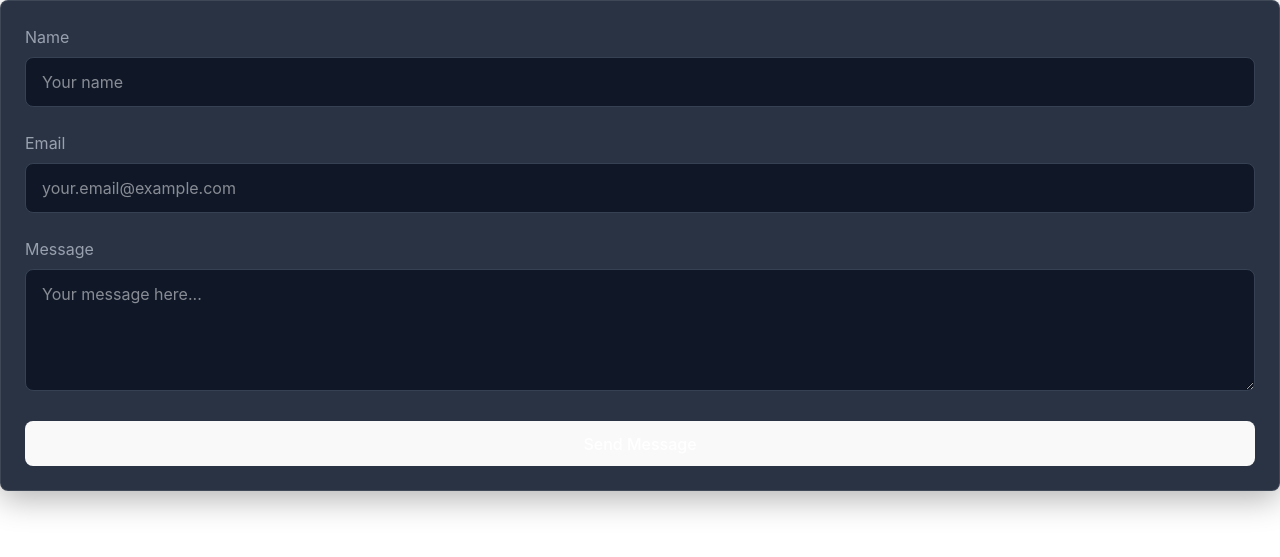
Test case: ContactForm › Field Validation › should show error for invalid email format
Type "invalid-email" into the field with placeholder "your.email@example.com" at [640, 188], box [25,163,1255,213]
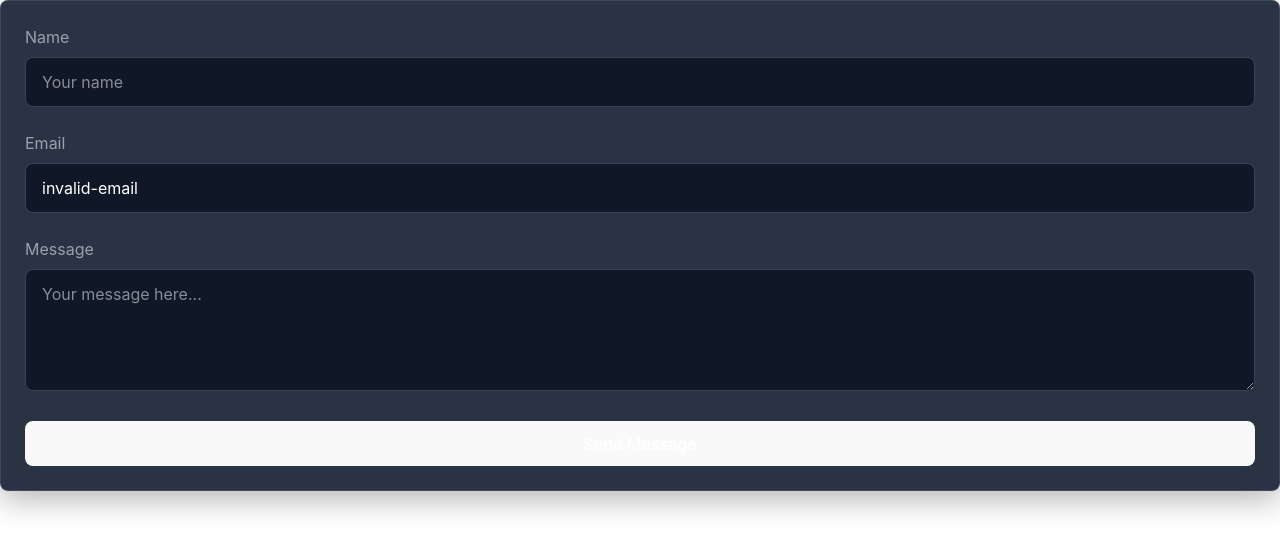
Leave the field with placeholder "your.email@example.com", box [25,163,1255,213]
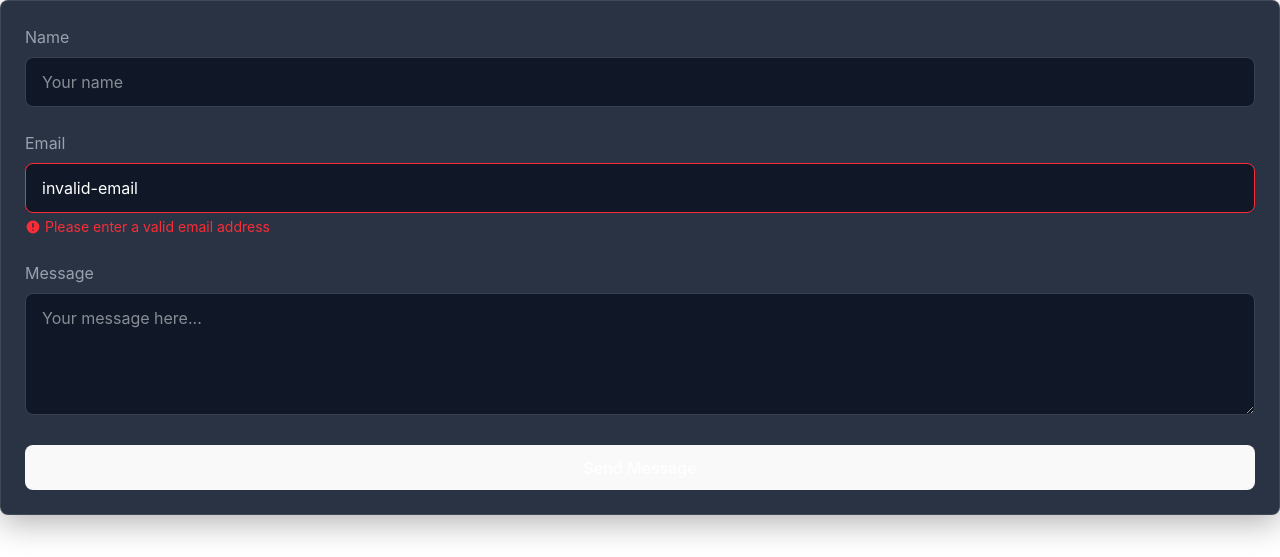
Result: the text "Please enter a valid email address" is shown at [25,218,270,235]
